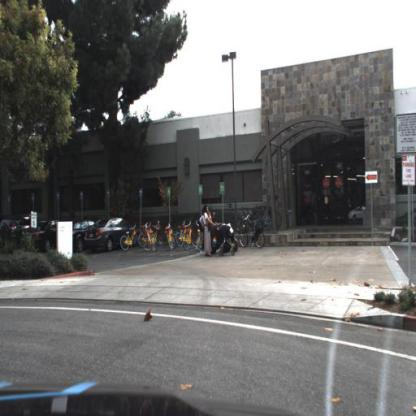car: (84, 213, 137, 257), (82, 215, 137, 251), (21, 223, 58, 250), (72, 218, 99, 250), (1, 216, 20, 247), (72, 221, 84, 252)
pedestrian: (201, 206, 217, 258), (196, 209, 207, 259), (203, 207, 213, 258), (212, 208, 222, 258), (200, 210, 207, 254)
